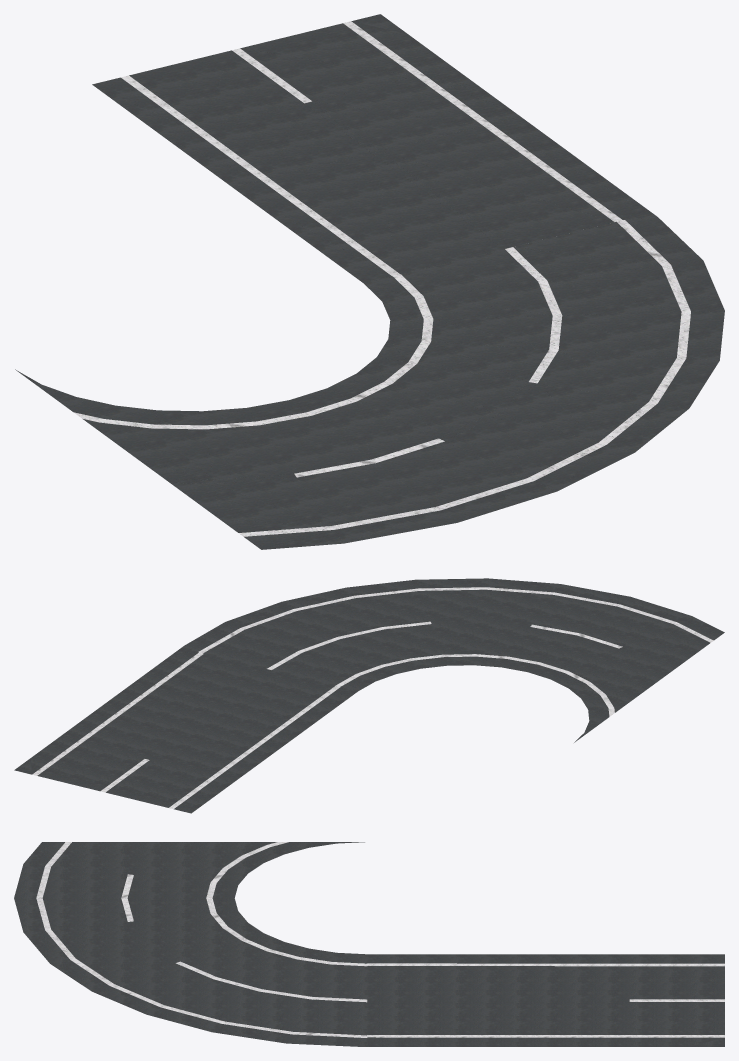
File: vgssairportland10.obj
3 renders of one model, top to bottom at view 1: azimuth 30°, elevation 25°; view 2: azimuth 150°, elevation 25°; view 3: azimuth 270°, elevation 25°, orthographic. The views are drawn at different scales.
Parts seen in each view (by area): view 1: vgsSairportland10; view 2: vgsSairportland10; view 3: vgsSairportland10.
Boxes of the visible parts, x1,y1,x2,y2 form: vgsSairportland10: (15, 14, 724, 549); vgsSairportland10: (14, 578, 724, 813); vgsSairportland10: (14, 842, 724, 1046).
Size of the model in its own units: 88.44 by 0.00281 by 130.
2 materials, 2 textured.
